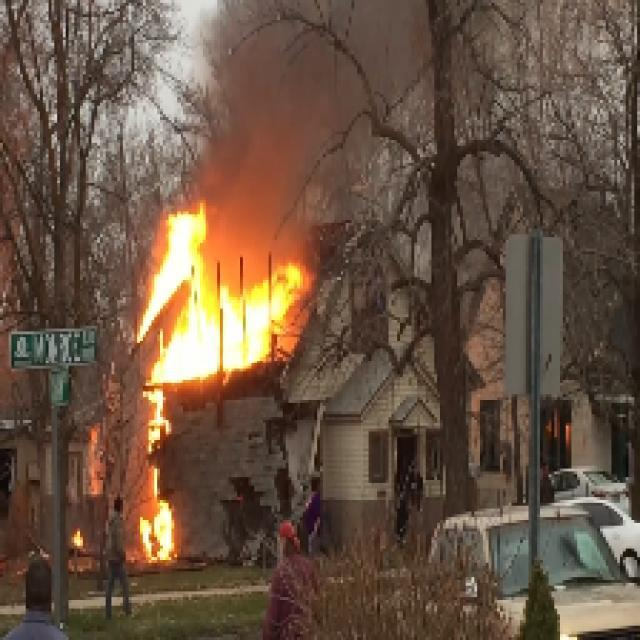Fire: (161, 252, 281, 372)
